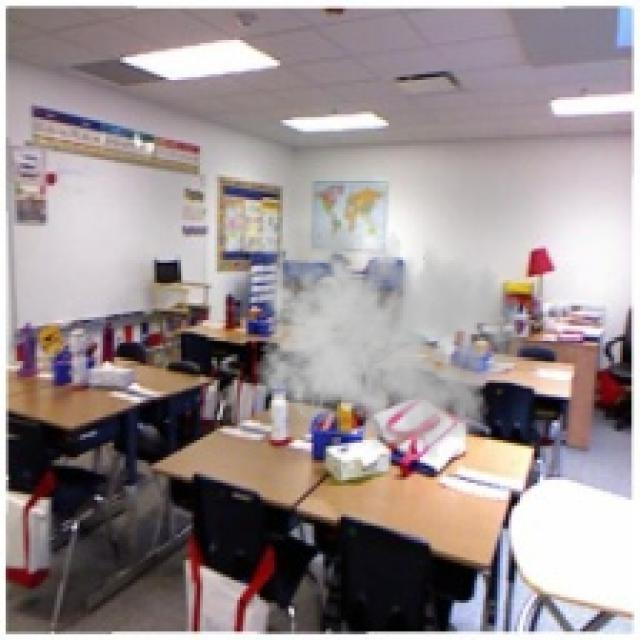smoke: (245, 214, 526, 460)
